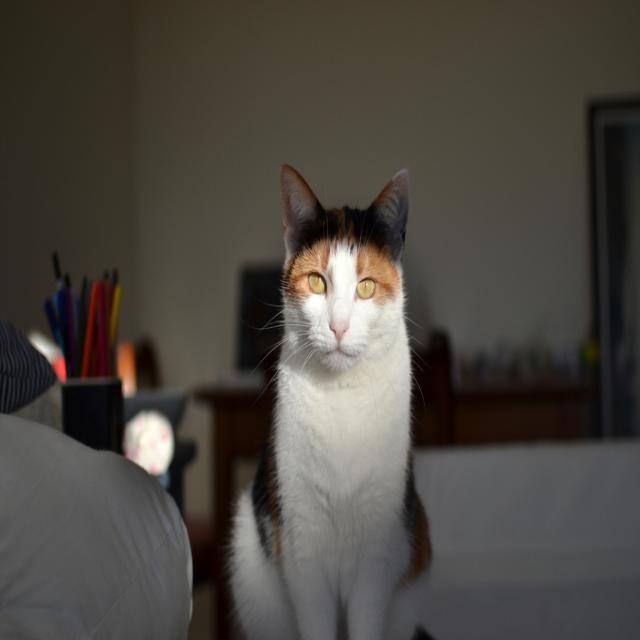Cat: (223, 157, 433, 638)
